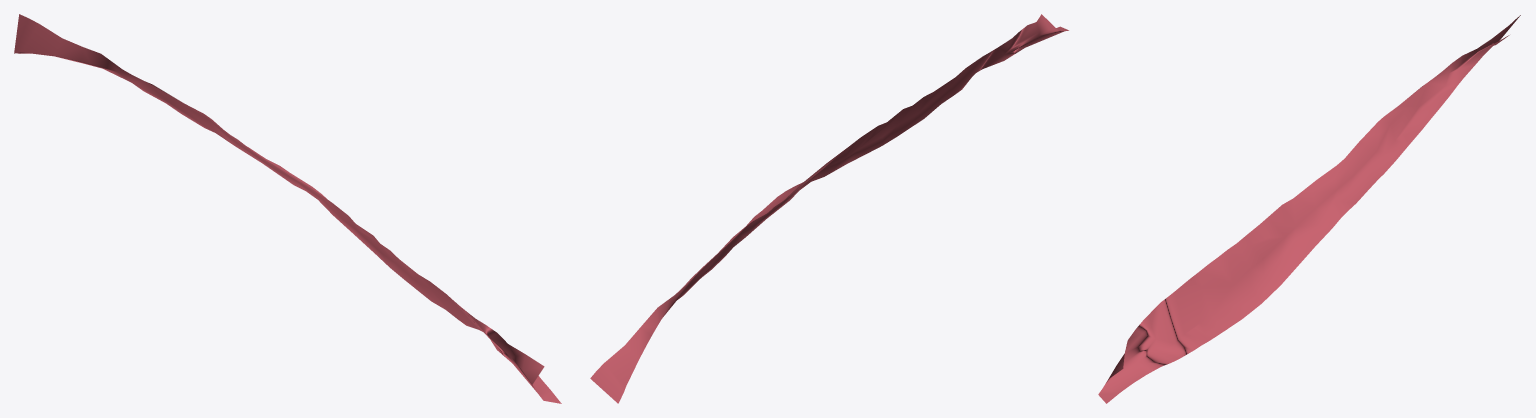
3 views of the same model, side by side, from view 1: azimuth 30°, elevation 25°; view 2: azimuth 150°, elevation 25°; view 3: azimuth 330°, elevation 25° (orthographic). The views are drawn at different scales.
Parts seen in each view (by area): view 1: 左侧小腿前肌间隔; view 2: 左侧小腿前肌间隔; view 3: 左侧小腿前肌间隔.
Boxes of the visible parts, <box> form: 左侧小腿前肌间隔: <box>14,14,561,403</box>; 左侧小腿前肌间隔: <box>590,14,1068,403</box>; 左侧小腿前肌间隔: <box>1098,15,1520,403</box>.
Size of the model in its own units: 0.0417 by 0.03 by 0.429.
